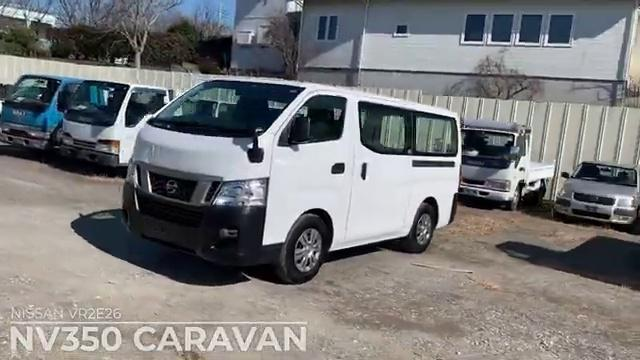Van: (124, 79, 464, 288)
